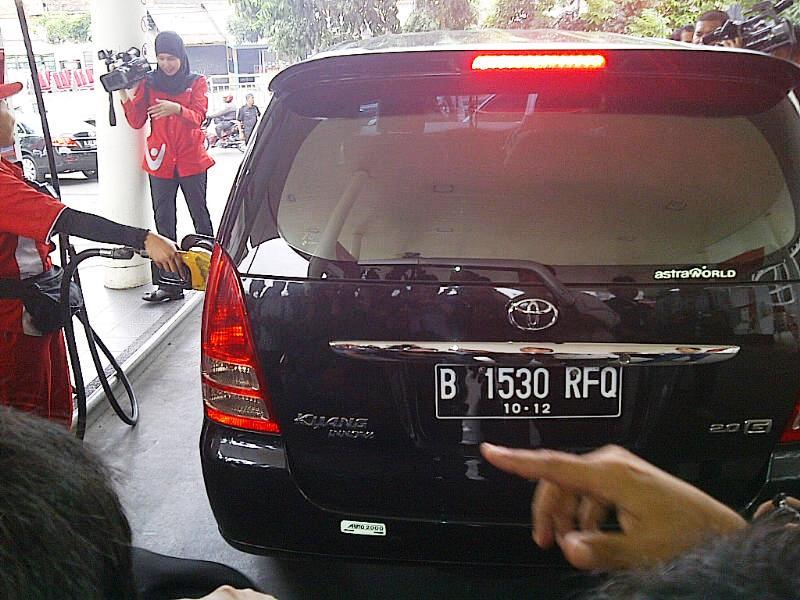plate: (434, 364, 624, 419)
